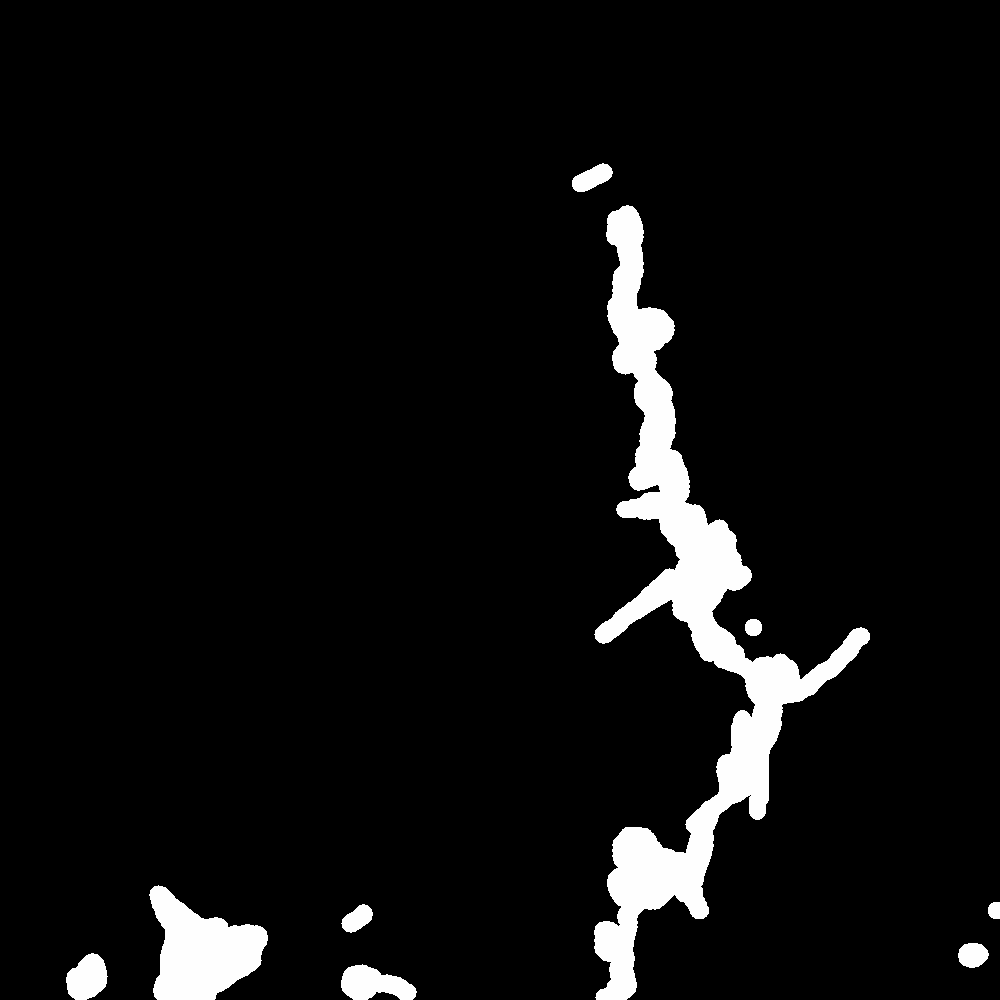illegal: (561, 157, 868, 1000), (58, 874, 276, 1000), (322, 899, 419, 1000), (951, 901, 1000, 1000)
